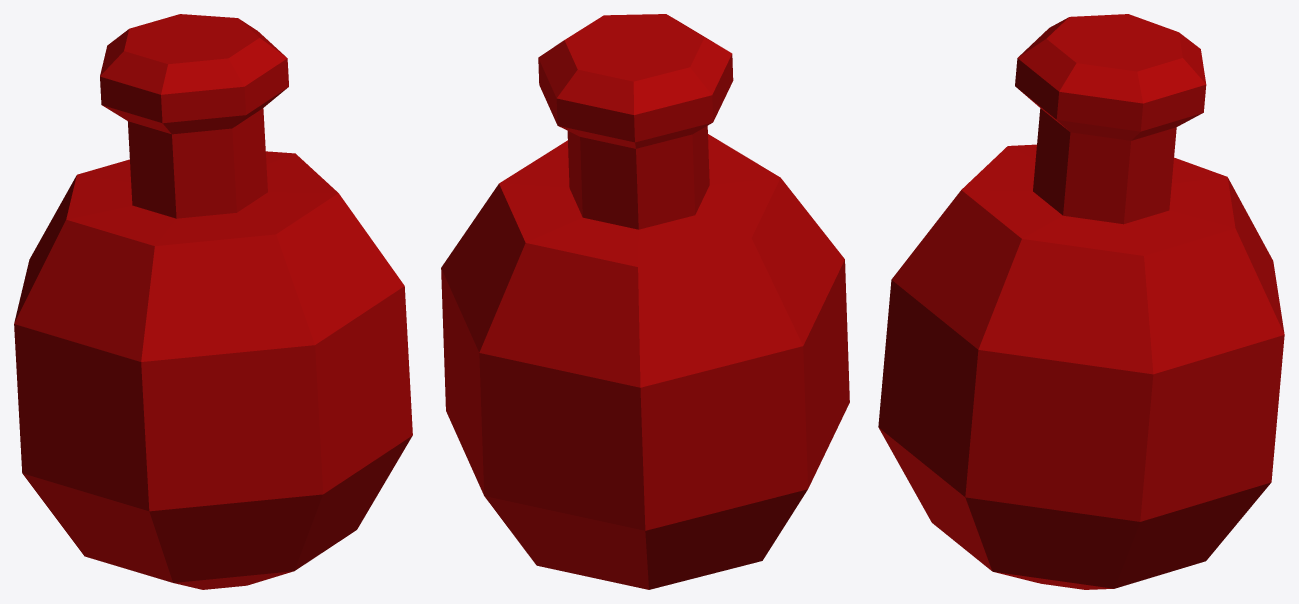
Rendered from Bottle 2.fbx.
3 views of the same model, side by side, from view 1: azimuth 30°, elevation 25°; view 2: azimuth 150°, elevation 25°; view 3: azimuth 270°, elevation 25° (orthographic). The views are drawn at different scales.
Parts seen in each view (by area): view 1: Cylinder008; view 2: Cylinder008; view 3: Cylinder008.
Boxes of the visible parts, x1,y1,x2,y2 form: Cylinder008: (14,14,412,589); Cylinder008: (441,14,849,589); Cylinder008: (878,14,1284,589).
Size of the model in its own units: 6.72 by 9.85 by 6.82.
